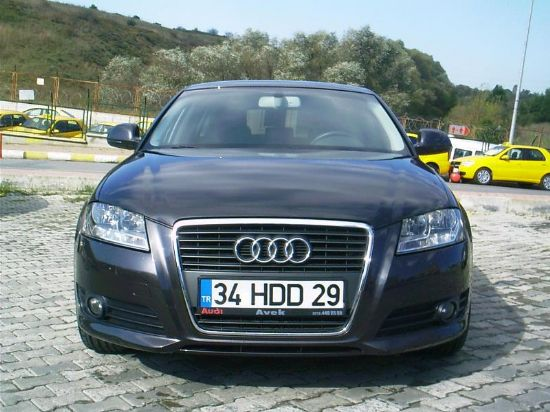audi: (231, 229, 314, 271)
